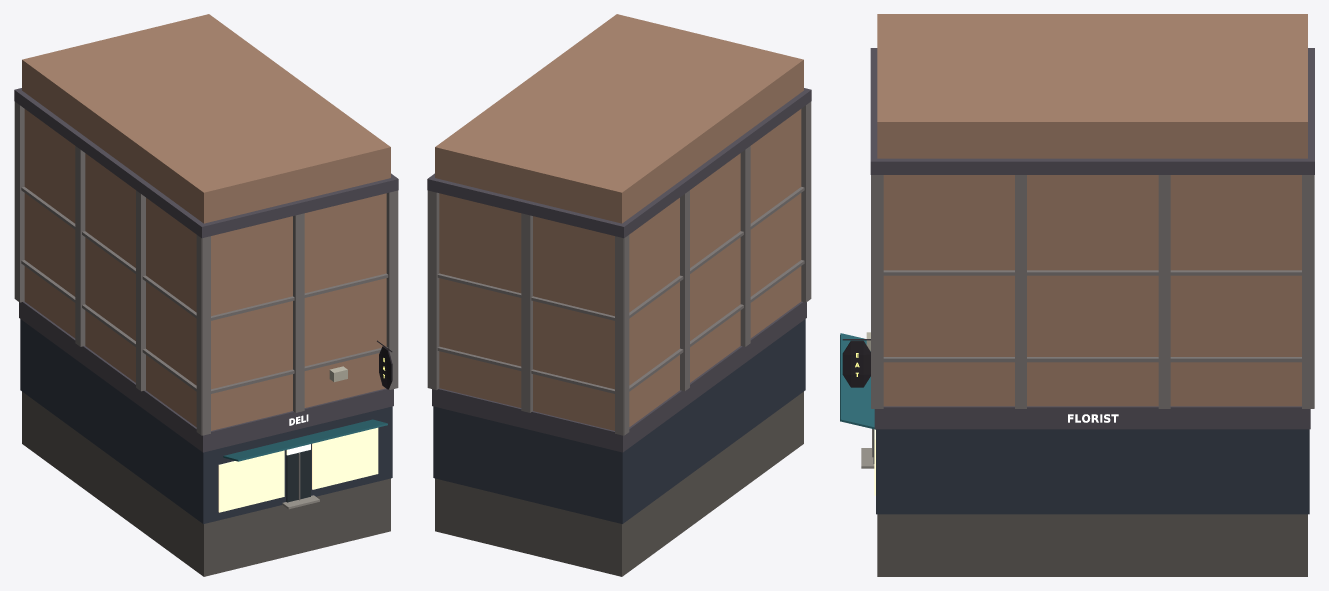
File: building_1.glb
The picture shows the model from 3 angles, left to right: view 1: azimuth 30°, elevation 25°; view 2: azimuth 150°, elevation 25°; view 3: azimuth 270°, elevation 25°; orthographic projection. The views are drawn at different scales.
Visible parts, largest first — view 1: building; view 2: building; view 3: building.
Boxes of the visible parts, x1,y1,x2,y2 form: building: [14, 14, 398, 576]; building: [427, 14, 811, 576]; building: [840, 14, 1314, 576].
Size of the model in its own units: 10 by 18.65 by 17.64.
